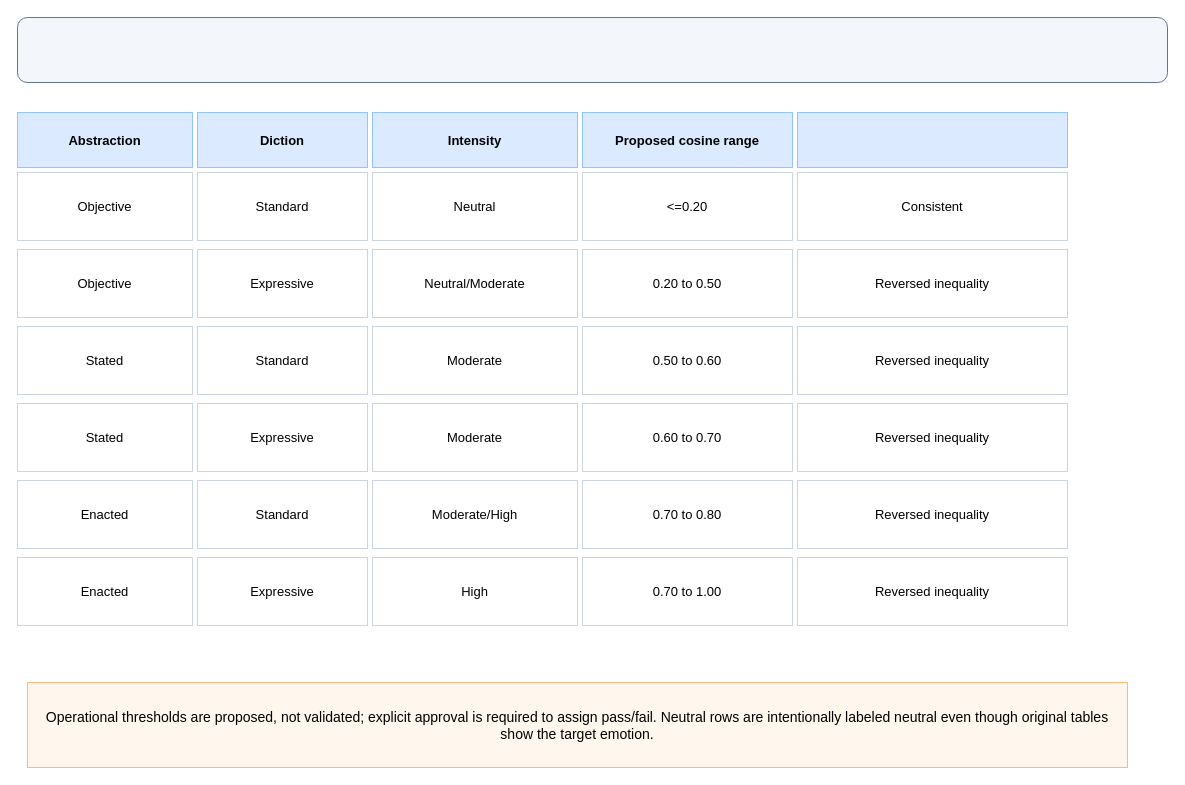
This 1185x785 diagram has some shape labels left out. The box of each missing label's shape, as (x1, y1, x2, y2) in pixels:
Context classification decision table (all 3 emotions repeat these 6 rows): (16, 16, 1168, 82)
Original PDF bound status: (796, 112, 1068, 168)
